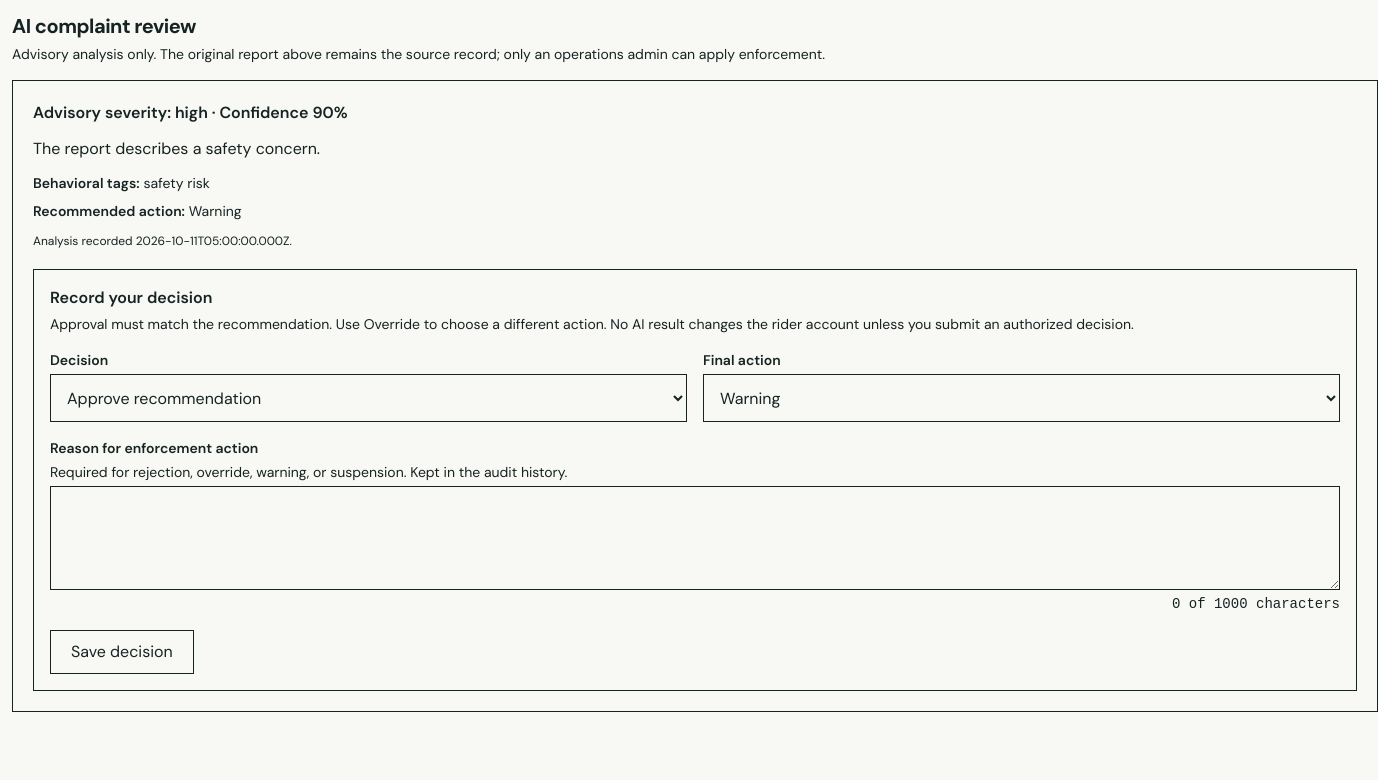
Test: AiComplaintReview (OA-FR-34, OA-FR-36, CS455-56, CS455-57) › refreshes after the server reports that the recommendation was already decided
In the text box labelled "Reason for enforcement action": (695, 538) [50,486,1340,590], type "Reviewed"
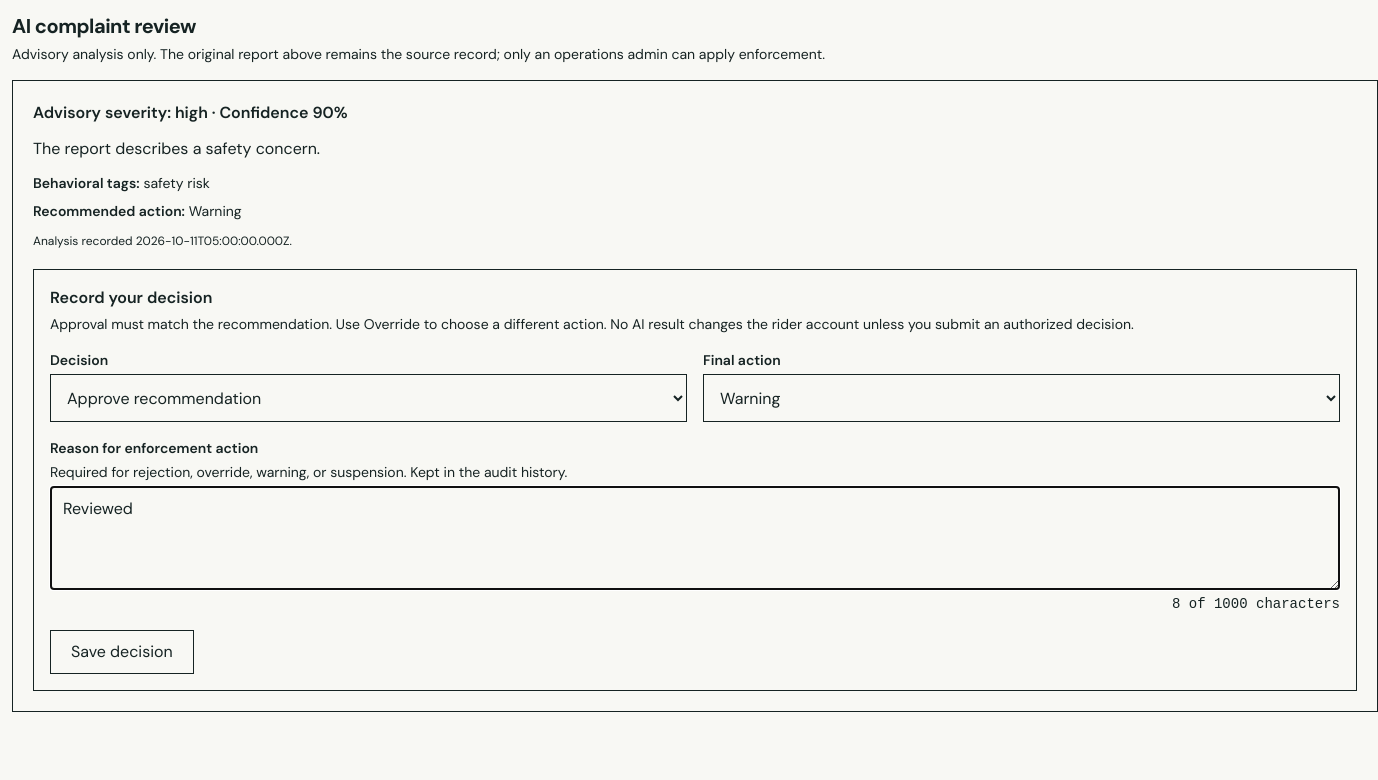
Click the button "Save decision": (122, 652) [50,630,194,674]
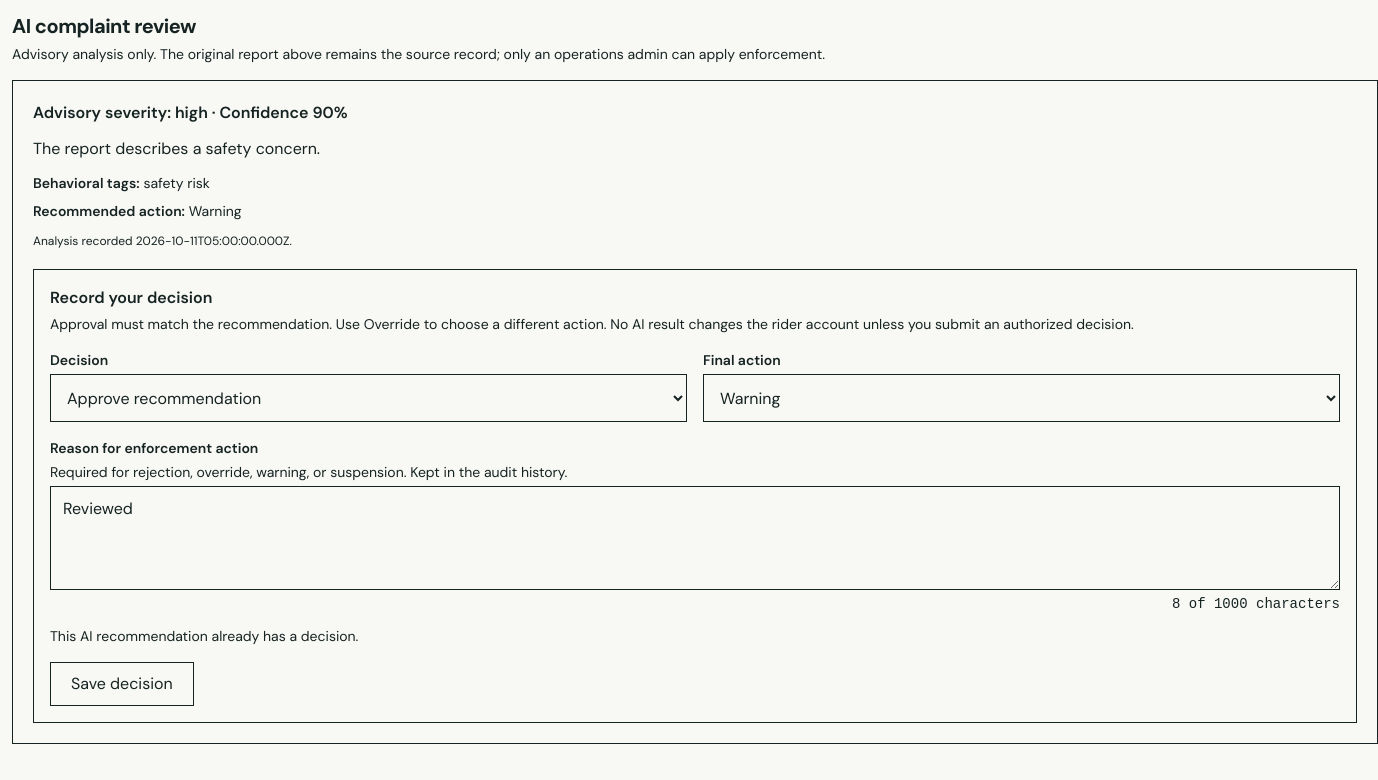
Check: the message shows "already has a decision", box [50,627,358,645]
